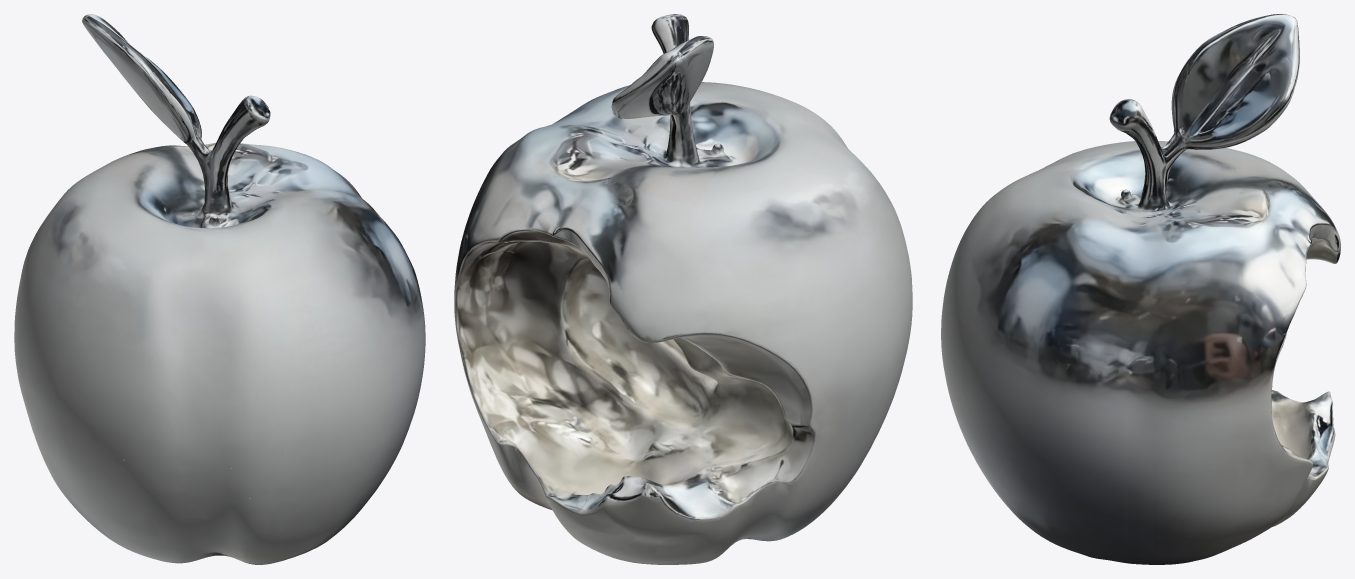
The model's file is apple.opt.glb.
3 views of the same model, side by side, from view 1: azimuth 30°, elevation 25°; view 2: azimuth 150°, elevation 25°; view 3: azimuth 270°, elevation 25° (orthographic). The views are drawn at different scales.
Visible parts, largest first — view 1: tripo_node_eebeadbf-992b-44bf-842c-18abf2d9a0c5; view 2: tripo_node_eebeadbf-992b-44bf-842c-18abf2d9a0c5; view 3: tripo_node_eebeadbf-992b-44bf-842c-18abf2d9a0c5.
Part boxes in pixels (box(x1,y1,x2,y2)): tripo_node_eebeadbf-992b-44bf-842c-18abf2d9a0c5: box(14, 14, 425, 564); tripo_node_eebeadbf-992b-44bf-842c-18abf2d9a0c5: box(454, 14, 912, 564); tripo_node_eebeadbf-992b-44bf-842c-18abf2d9a0c5: box(941, 14, 1340, 564).
Size of the model in its own units: 0.7616 by 0.9808 by 0.7455.
1 material, 1 textured.
